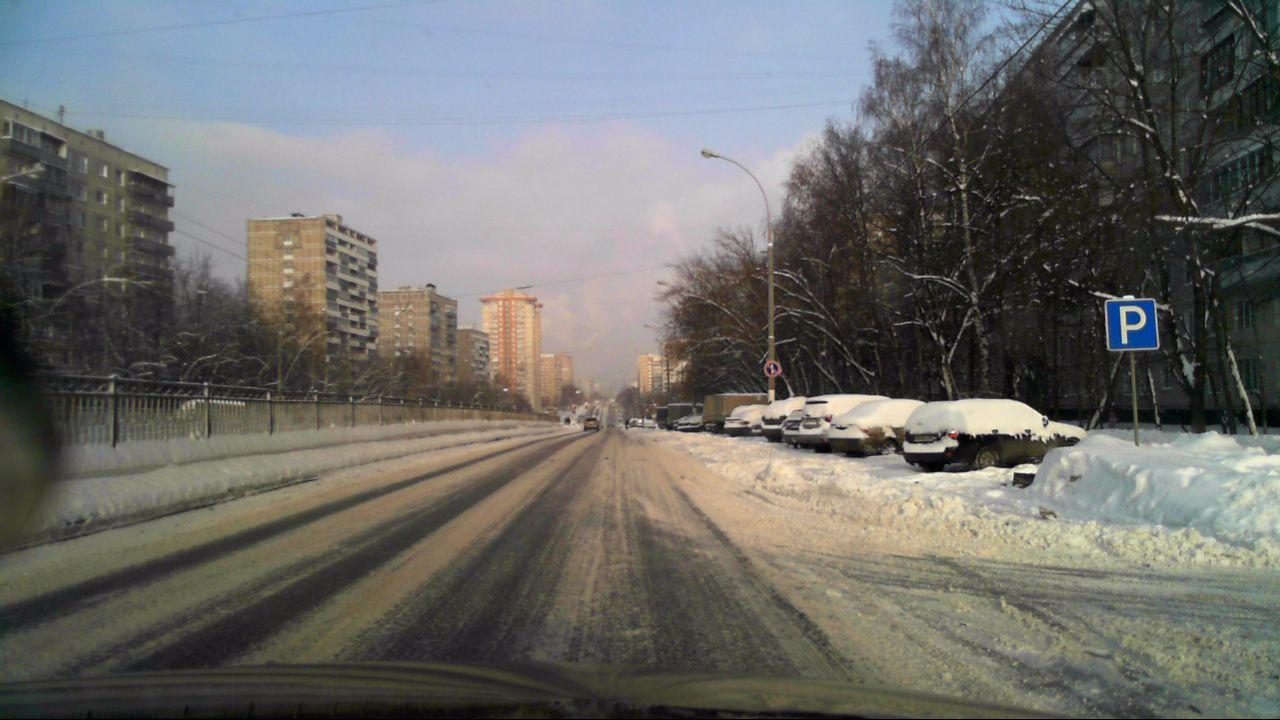3_29: (761, 359, 782, 379)
6_4: (1104, 298, 1159, 350)
